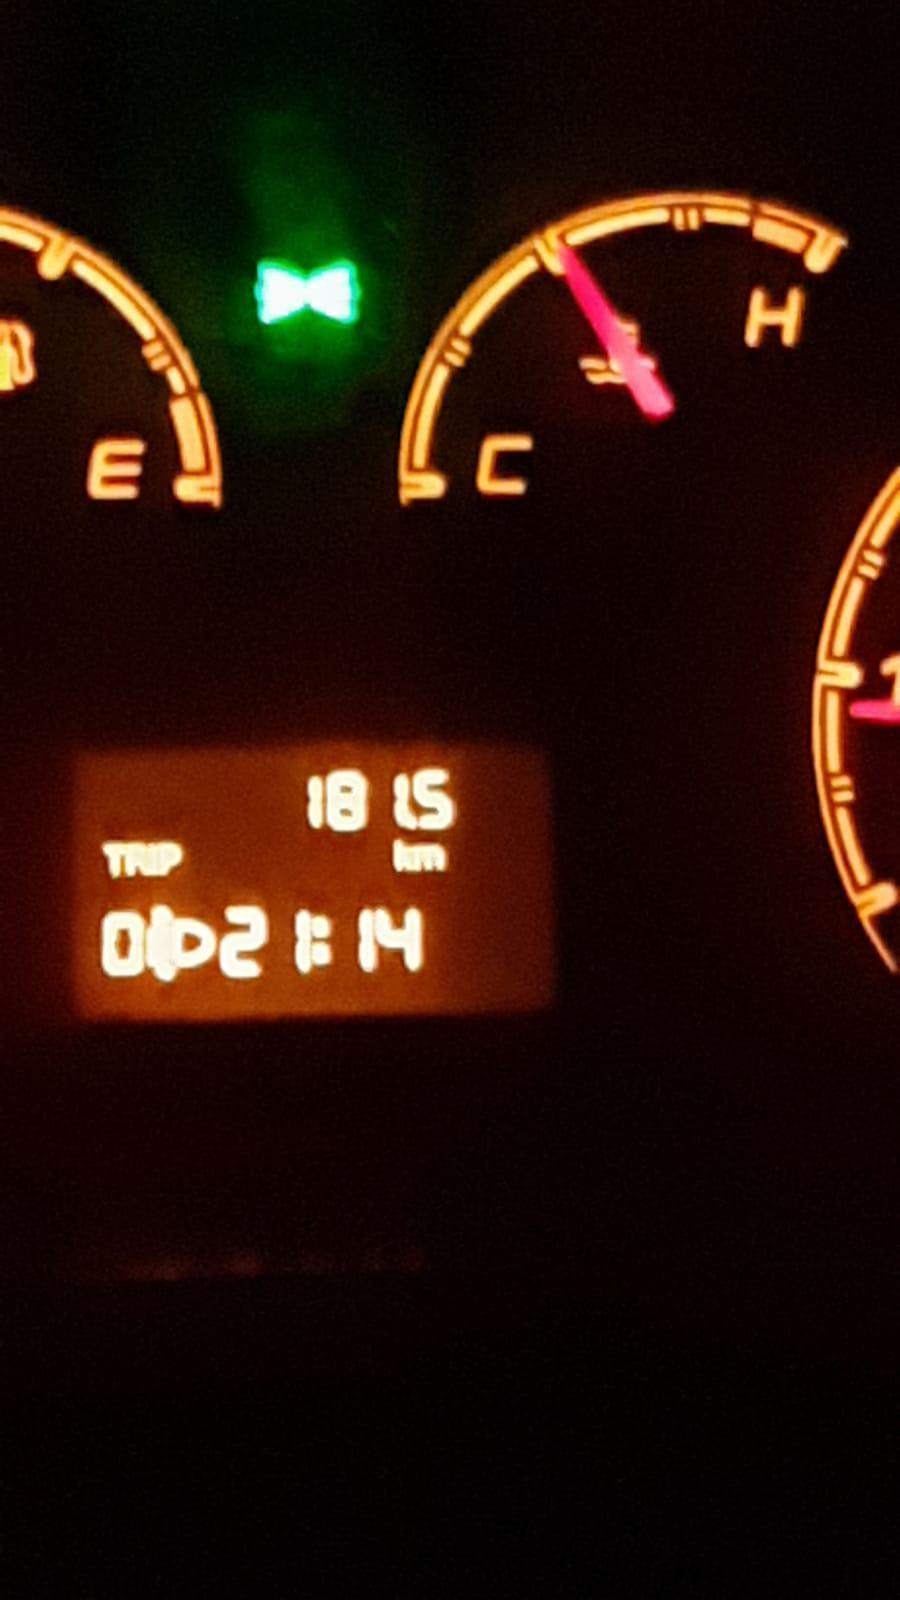,: (407, 810, 416, 830)
0: (99, 909, 145, 979)
1: (291, 907, 312, 976), (354, 907, 375, 974), (304, 774, 325, 830), (390, 773, 409, 829)
2: (218, 903, 269, 980)
4: (376, 905, 424, 973)
5: (412, 767, 455, 830)
8: (326, 767, 369, 832)
X: (310, 912, 334, 967), (98, 838, 125, 879), (412, 842, 448, 873), (158, 840, 185, 878), (124, 840, 148, 878), (390, 837, 413, 874), (147, 838, 159, 878)
odometer: (51, 727, 563, 1036)
